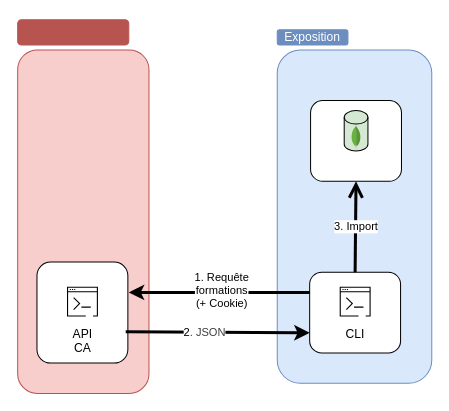
Some shapes in this 449 by 411 pixel diagram are drawn without their labels. The centre of each missing label's shape, as x and y in pixels:
API Catalogue de l'apprentissage: pixel 73 32
MongoDB: pixel 355 130
